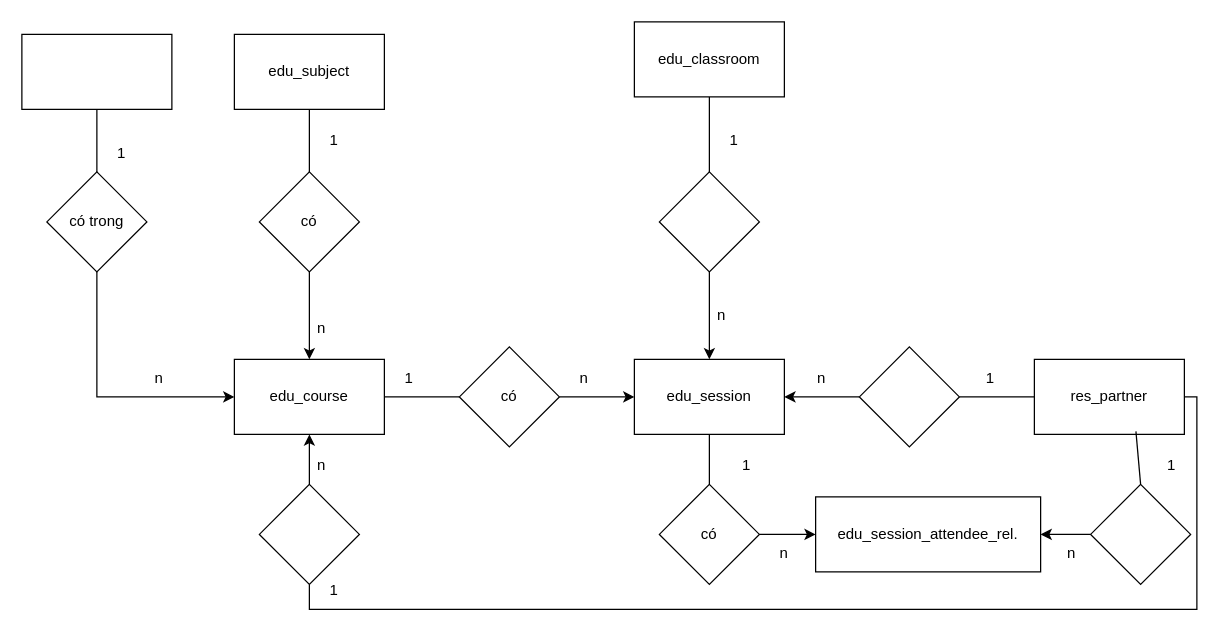
The diagram is 1220 pixels wide and 633 high, and some of its shapes have lost their labels. Each missing label, with the centre of its shape:
dạy: pixel 908 396
học: pixel 1140 533
phụ trách: pixel 308 533
product_template: pixel 96 71
sử dụng: pixel 708 221
